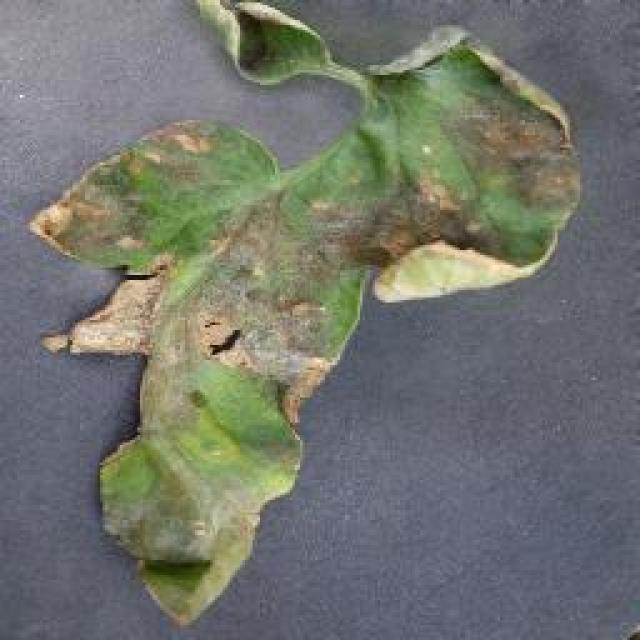Tomato___Late_blight: (28, 0, 582, 630)
